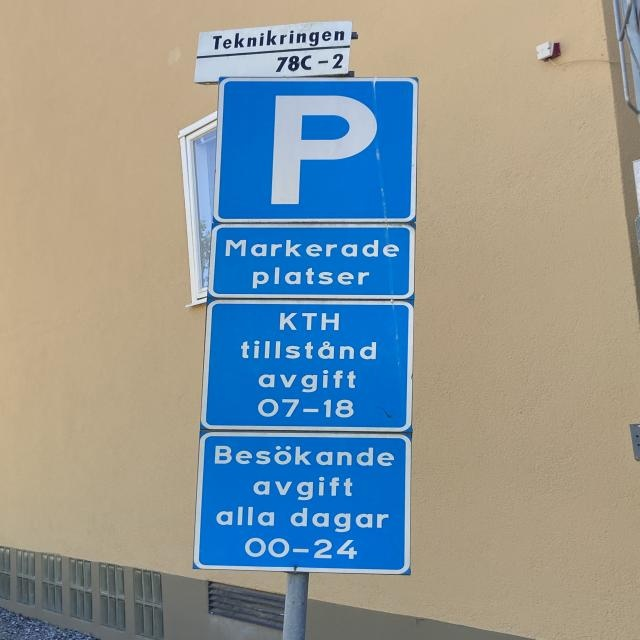P-skylt: (221, 78, 416, 220)
